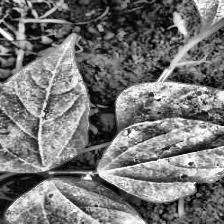ALS: (0, 32, 88, 171), (115, 119, 224, 201), (108, 83, 224, 150), (1, 181, 181, 224)
